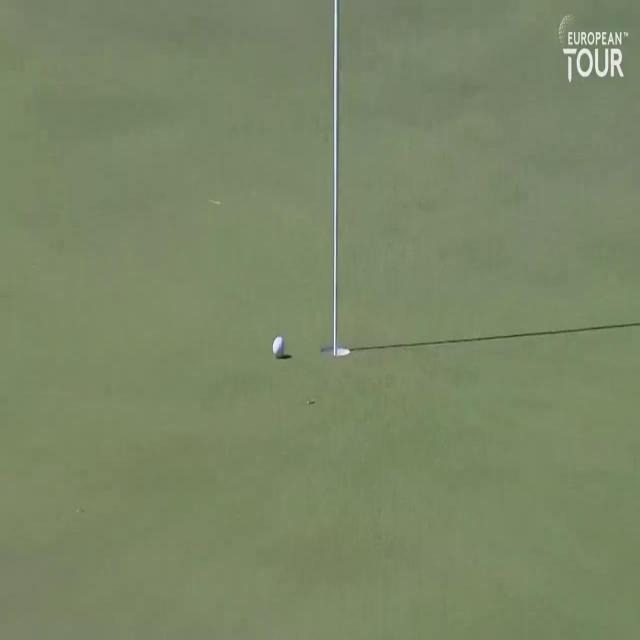GolfBall: (266, 330, 290, 364)
